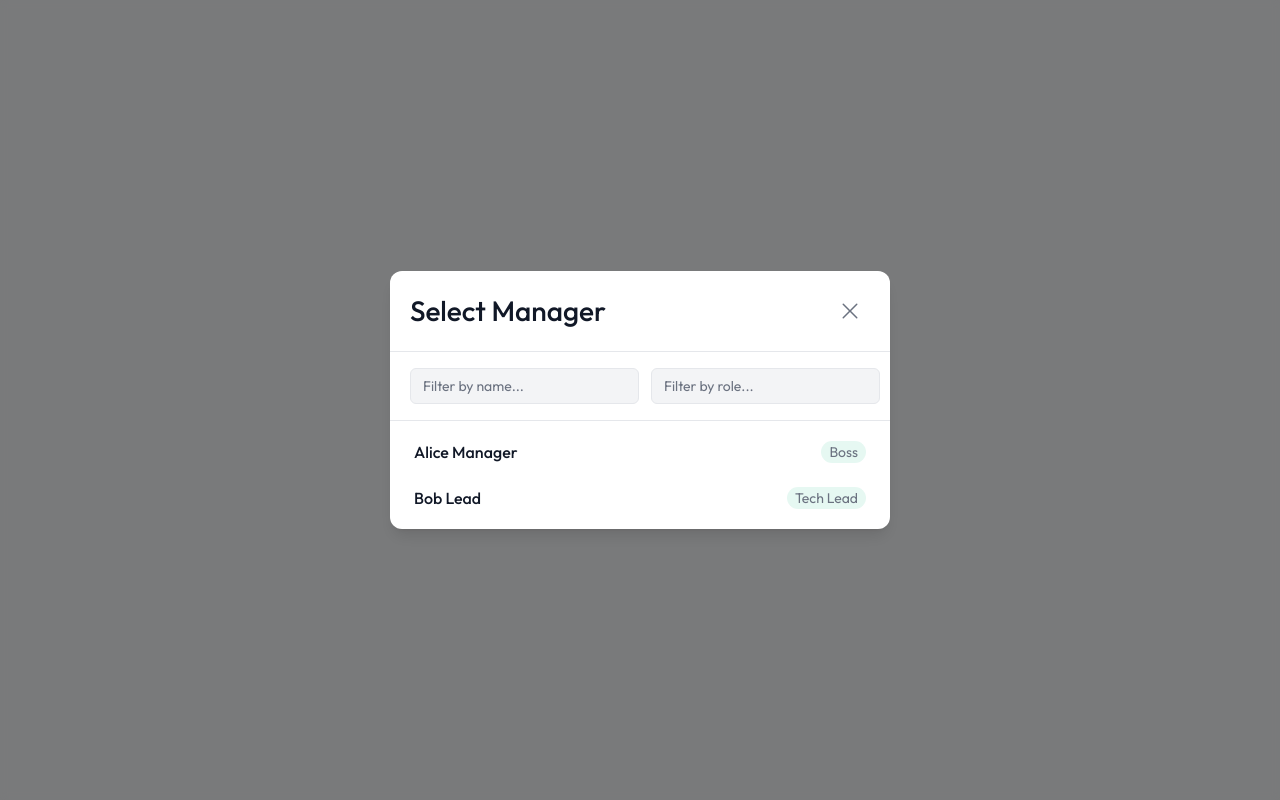
Test: ManagerSelectModal › filters list by name input
The image size is (1280, 800).
Check: the text "Alice Manager" is shown, box [414,442,518,462]
In the field with placeholder "Filter by name...": {"x": 524, "y": 386} [410,368,639,404], type "Bob"
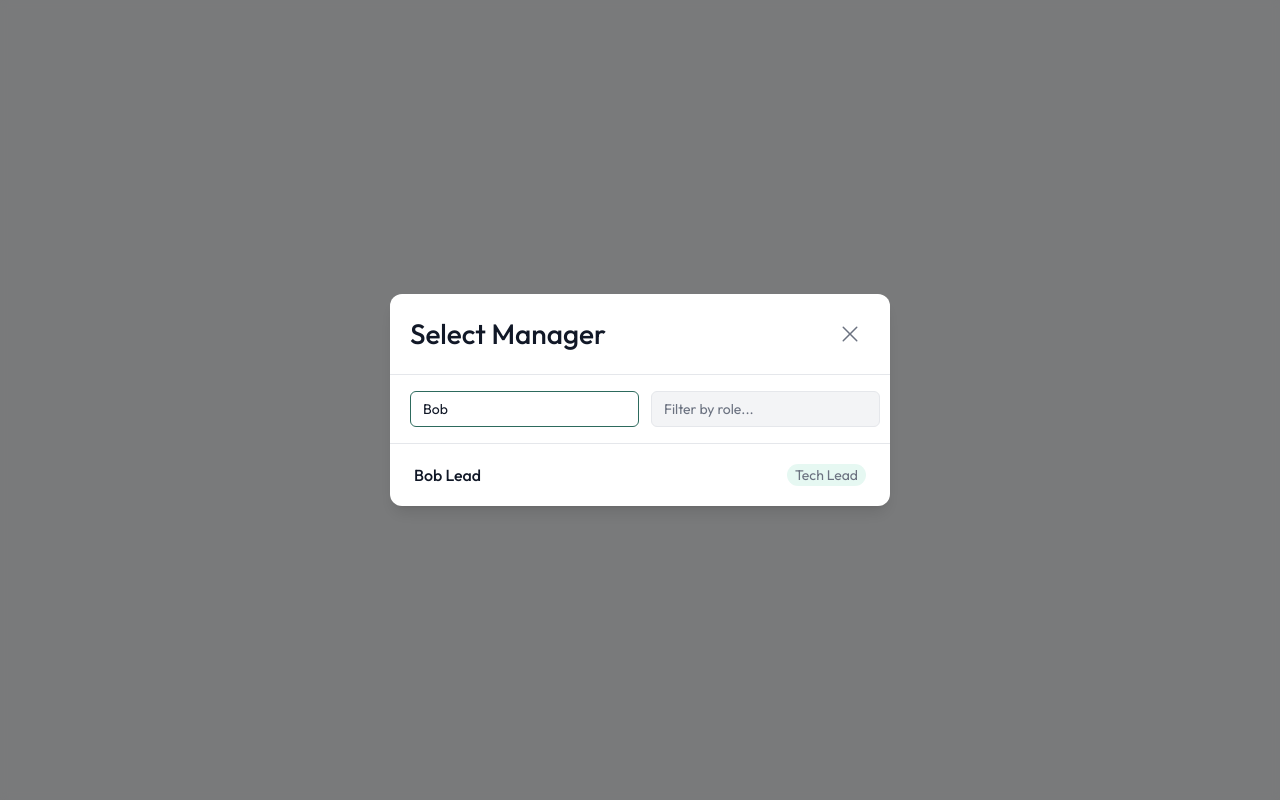
Check: the text "Bob Lead" is shown, box [414,465,481,485]
Check: the button "Alice Manager" is gone
